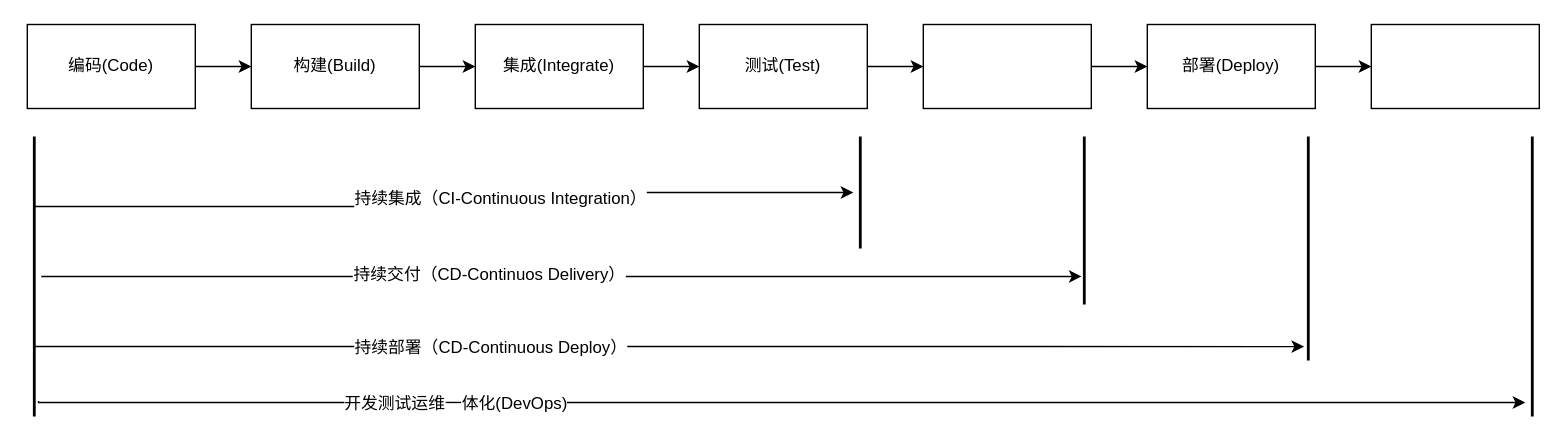
Image size: 1565x442. Some labels were removed from this diagram. Here are the shapes that lost their labels. From the top down, the centre of each, then its label:
the point at 1006,65: 交付(Delivery)
the point at 1454,65: 运营(Operate)
